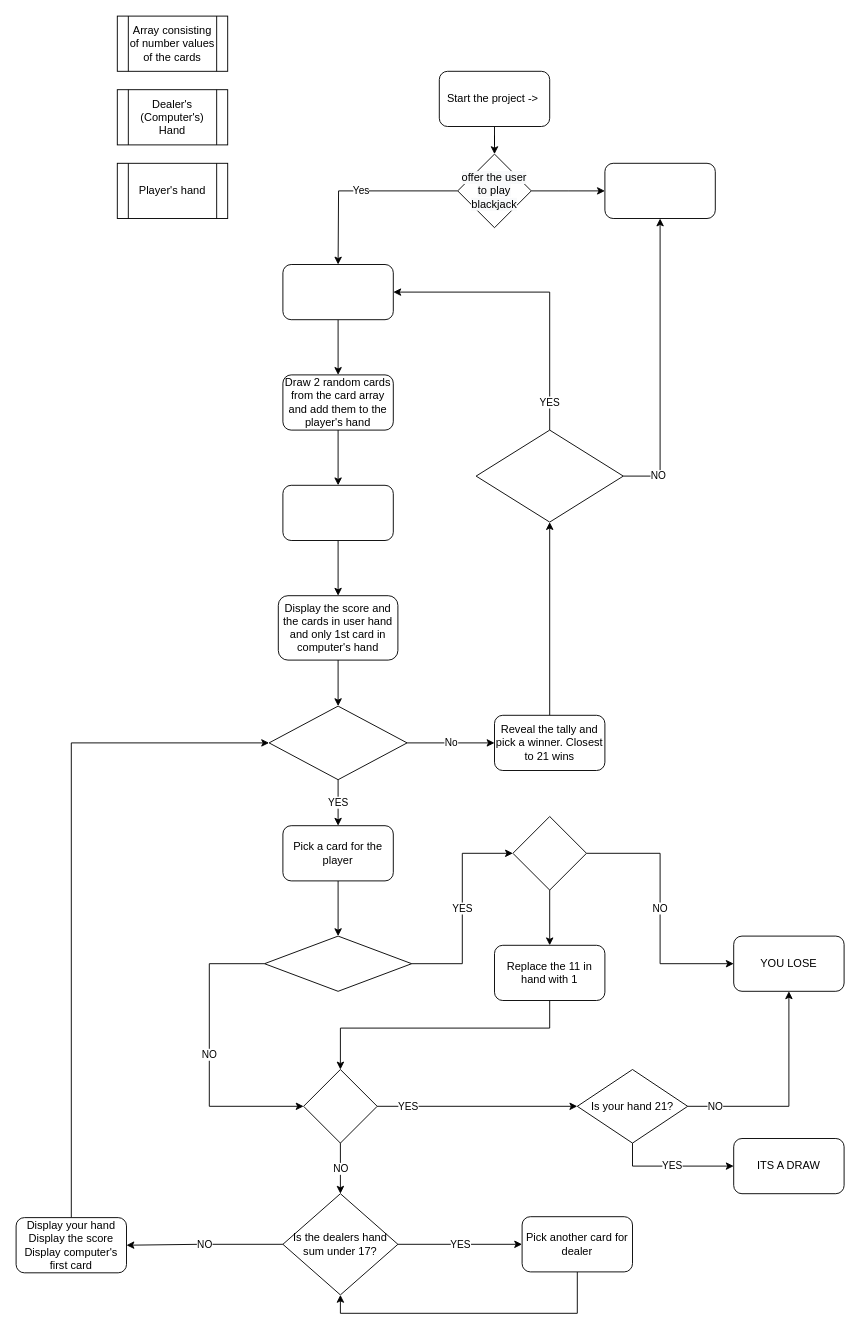
Some shapes in this 860 by 1337 pixel diagram are drawn without their labels. The centre of each missing label's shape, as x and y in pixels:
Draw 2 random cards from the card array and add them to computer's hand: point (337, 512)
Is the dealer's hand 21?: point (340, 1106)
Is the total higher than 21?: point (338, 963)
Is there an ace in your hand?: point (549, 853)
Just quit: point (659, 190)
Print the logo: point (337, 292)
Would you like to get another card?: point (337, 742)
Would you like to play another round?: point (549, 475)
